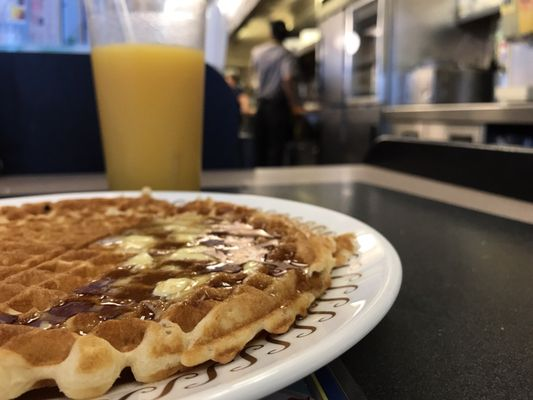pizza: (90, 41, 206, 191)
